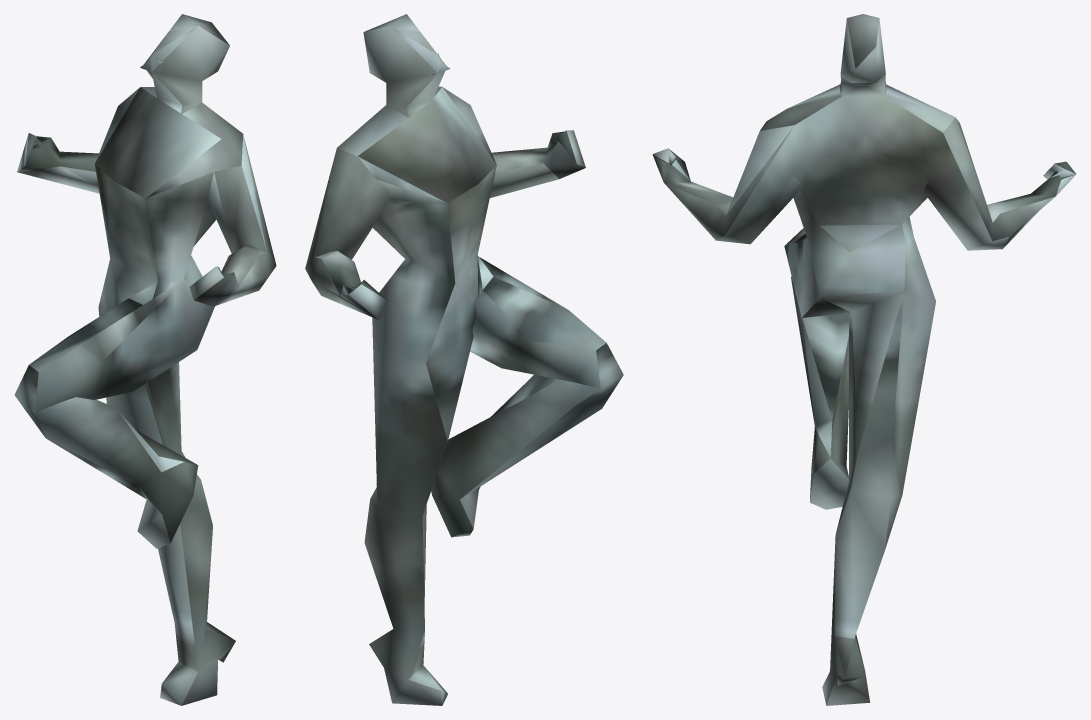
File: statue.dae
3 views of the same model, side by side, from view 1: azimuth 30°, elevation 25°; view 2: azimuth 150°, elevation 25°; view 3: azimuth 270°, elevation 25° (orthographic). The views are drawn at different scales.
Visible parts, largest first — view 1: statue; view 2: statue; view 3: statue.
Part boxes in pixels (x1,y1,x2,y2): statue: [14, 14, 276, 705]; statue: [305, 14, 623, 705]; statue: [652, 14, 1076, 705].
Size of the model in its own units: 0.9987 by 1.59 by 2.82.
1 material, 1 textured.
